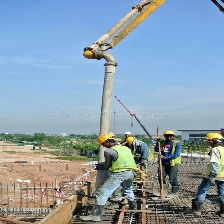helmet: (204, 133, 224, 140), (164, 131, 177, 136)
person: (84, 131, 139, 222), (193, 133, 224, 216), (153, 129, 182, 201)
vest: (107, 146, 142, 175)
